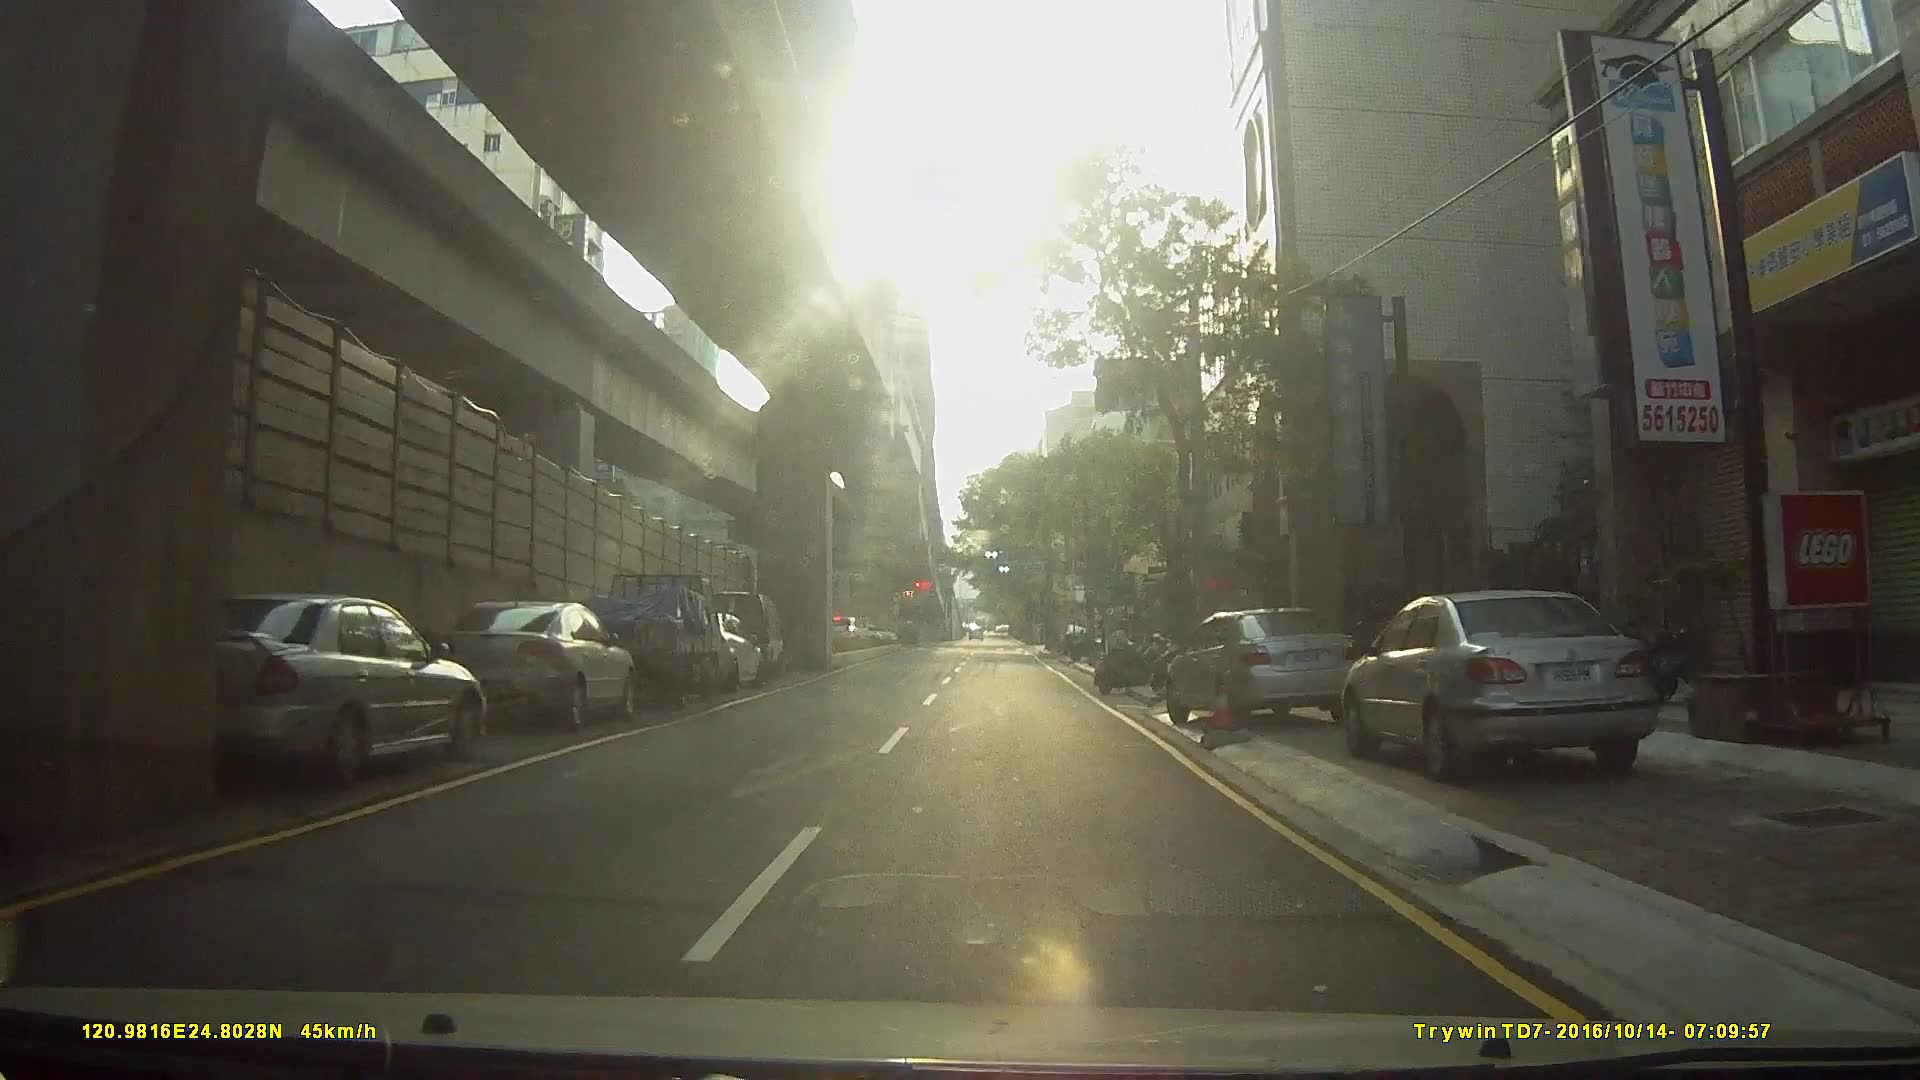rider: (1096, 626, 1166, 703)
vehicle: (117, 595, 484, 808), (1351, 587, 1687, 789), (404, 604, 642, 743), (1165, 602, 1371, 733), (564, 568, 718, 712), (821, 614, 872, 650)
